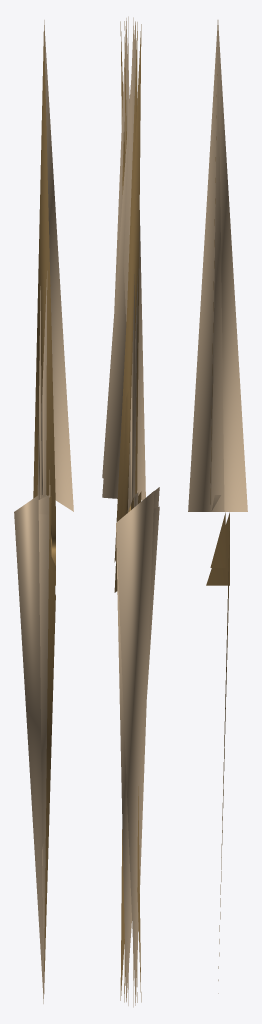
Rendered from equip_weapon_bronze_scimitar.glb.
3 renders of one model, left to right at view 1: azimuth 90°, elevation 25°; view 2: azimuth 150°, elevation 25°; view 3: azimuth 270°, elevation 25°, orthographic.
Visible parts, largest first — view 1: equip_weapon_bronze_scimitar; view 2: equip_weapon_bronze_scimitar; view 3: equip_weapon_bronze_scimitar.
Part boxes in pixels (x1,y1,x2,y2): equip_weapon_bronze_scimitar: (14, 20, 73, 1003); equip_weapon_bronze_scimitar: (102, 16, 159, 1007); equip_weapon_bronze_scimitar: (188, 20, 247, 993).
Size of the model in its own units: 0.11 by 2 by 0.11.
